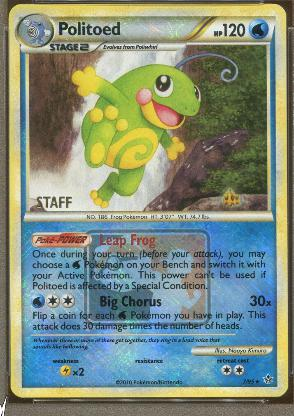Card: (6, 2, 288, 402)
